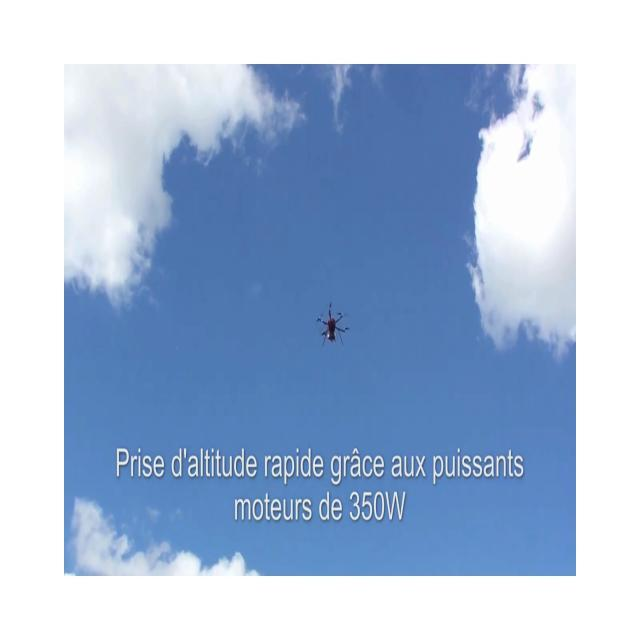drone: (316, 302, 349, 347)
